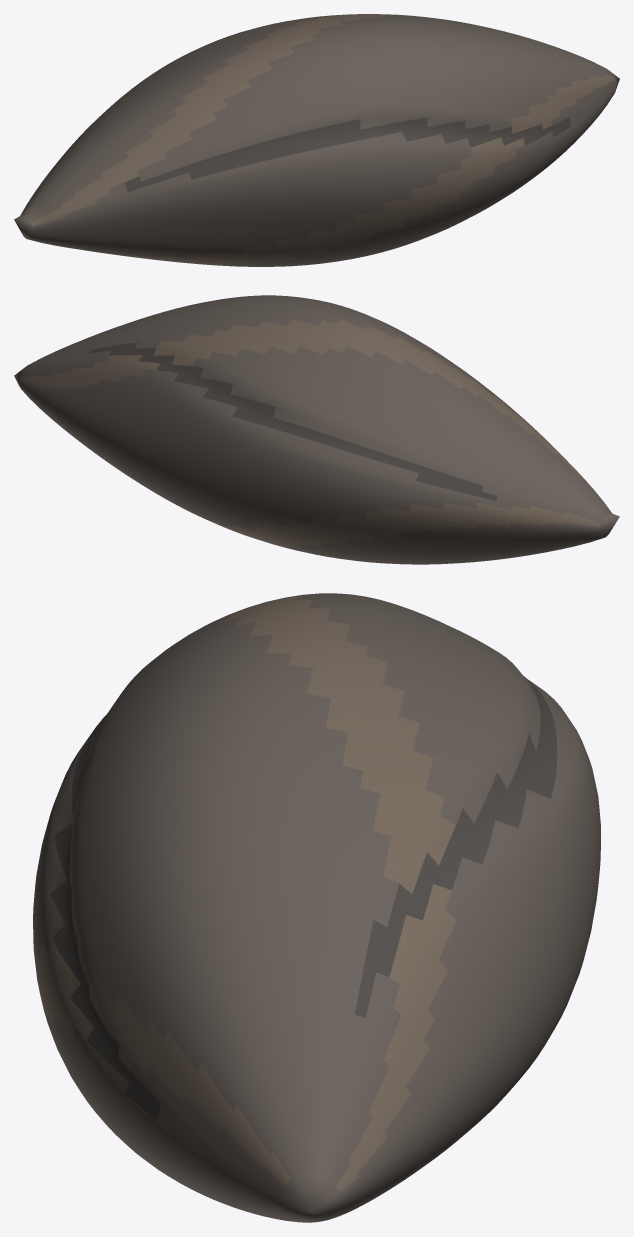
Rendered from volcanic-bomb.glb.
3 views of the same model, one above another, from view 1: azimuth 30°, elevation 25°; view 2: azimuth 150°, elevation 25°; view 3: azimuth 270°, elevation 25° (orthographic). The views are drawn at different scales.
Parts seen in each view (by area): view 1: Single stretched spindle clast with integral cooling crust; view 2: Single stretched spindle clast with integral cooling crust; view 3: Single stretched spindle clast with integral cooling crust.
Part boxes in pixels (bbox=[...]): Single stretched spindle clast with integral cooling crust: bbox=[14, 14, 619, 266]; Single stretched spindle clast with integral cooling crust: bbox=[14, 295, 619, 564]; Single stretched spindle clast with integral cooling crust: bbox=[33, 593, 600, 1222].
Bounding box in the file's own units: 0.25 × 0.0848 × 0.1015.
